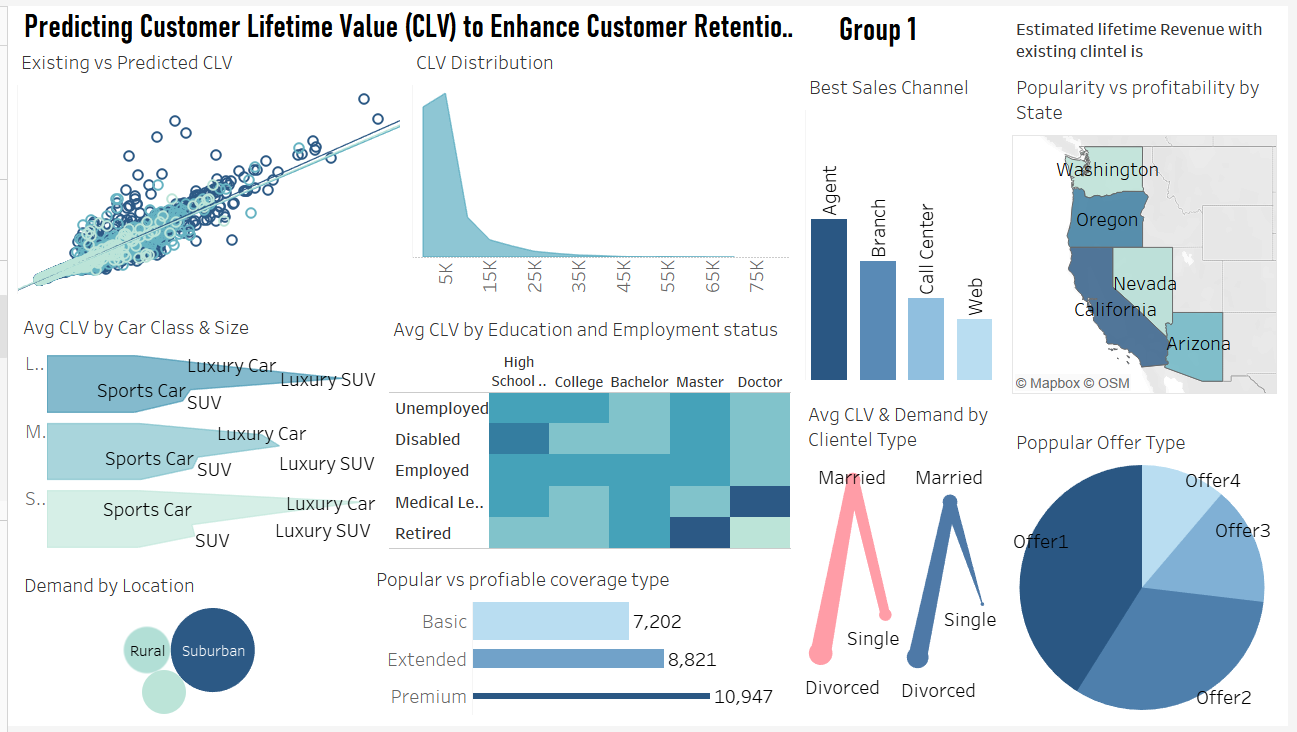

The dashboard page shown, as its layout file describes it:
{"tool":"tableau","page":{"name":"Dashboard 2","canvas":[1280,720],"ordinal":0},"visuals":[{"type":"worksheet","title":"Sheet 9","mark":"Automatic","box":[1000,4,275,53]},{"type":"text","box":[6,6,789,32]},{"type":"text","box":[827,8,134,33]},{"type":"dashboard-object","box":[961,8,24,24]},{"type":"worksheet","title":"Sheet 2","mark":"Automatic","rows":["Customer Lifetime Value"],"cols":["Predicted CLV"],"box":[5,35,391,257]},{"type":"worksheet","title":"Sheet 1","mark":"Area","rows":["Customer Lifetime Value"],"cols":["Customer Lifetime Value (bin)"],"box":[400,35,386,257]},{"type":"worksheet","title":"Sheet 7","mark":"Automatic","rows":["Predicted CLV"],"cols":["Sales Channel"],"box":[793,60,202,318]},{"type":"worksheet","title":"Sheet 6","mark":"Multipolygon","box":[1000,60,273,332]},{"type":"worksheet","title":"Sheet 4","mark":"Area","rows":["Vehicle Size","Vehicle Class"],"cols":["Customer Lifetime Value"],"box":[7,300,366,251]},{"type":"worksheet","title":"Sheet 5","mark":"Square","rows":["EmploymentStatus"],"cols":["Education"],"box":[377,302,410,245]},{"type":"worksheet","title":"Sheet 8","mark":"Line","rows":["Predicted CLV"],"cols":["Gender","Marital Status"],"box":[792,387,202,323]},{"type":"worksheet","title":"Sheet 3","mark":"Pie","box":[1000,415,268,293]},{"type":"worksheet","title":"Sheet 10","mark":"Automatic","rows":["Coverage"],"cols":["Predicted CLV"],"box":[360,552,426,161]},{"type":"worksheet","title":"Sheet 11","mark":"Circle","box":[8,558,347,154]}]}

Visuals, with their boxes in screenshot pixels (x1, y1, x2, y2), scaled from the page's 1280x720 canvas onto the 1297x732 screenshot:
"Sheet 9" worksheet: <bbox>1013, 4, 1292, 58</bbox>
text: <bbox>6, 6, 806, 39</bbox>
text: <bbox>838, 8, 974, 42</bbox>
dashboard-object: <bbox>974, 8, 998, 33</bbox>
"Sheet 2" worksheet: <bbox>5, 36, 401, 297</bbox>
"Sheet 1" worksheet (Area marks): <bbox>405, 36, 796, 297</bbox>
"Sheet 7" worksheet: <bbox>804, 61, 1008, 384</bbox>
"Sheet 6" worksheet (Multipolygon marks): <bbox>1013, 61, 1290, 399</bbox>
"Sheet 4" worksheet (Area marks): <bbox>7, 305, 378, 560</bbox>
"Sheet 5" worksheet (Square marks): <bbox>382, 307, 797, 556</bbox>
"Sheet 8" worksheet (Line marks): <bbox>803, 393, 1007, 722</bbox>
"Sheet 3" worksheet (Pie marks): <bbox>1013, 422, 1285, 720</bbox>
"Sheet 10" worksheet: <bbox>365, 561, 796, 725</bbox>
"Sheet 11" worksheet (Circle marks): <bbox>8, 567, 360, 724</bbox>
